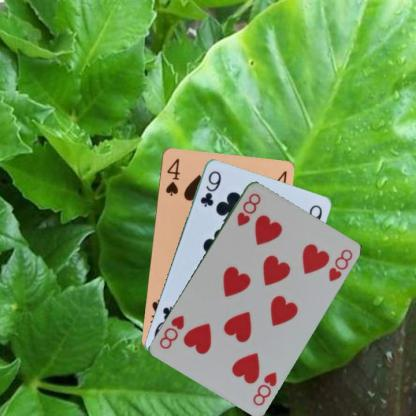4s: (163, 155, 181, 197)
8h: (249, 368, 278, 406), (234, 190, 262, 227)
9c: (197, 168, 222, 208)
